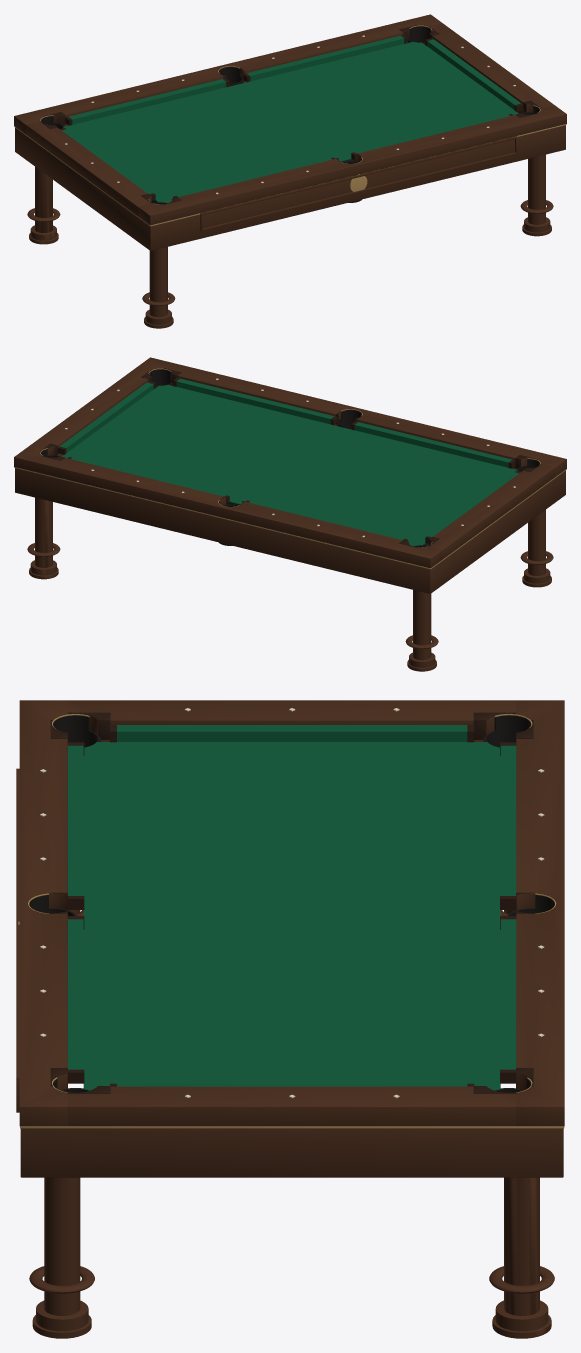
The model's file is table_a.glb.
The picture shows the model from 3 angles, top to bottom: view 1: azimuth 30°, elevation 25°; view 2: azimuth 150°, elevation 25°; view 3: azimuth 270°, elevation 25°; orthographic projection. The views are drawn at different scales.
Parts seen in each view (by area): view 1: SM_Cloth, SM_Rails, SM_Apron, SM_Cushions, SM_Legs, SM_Moldings, SM_PocketWells, SM_PocketJaws, SM_Facings, SM_ApronReveal; view 2: SM_Cloth, SM_Rails, SM_Apron, SM_Cushions, SM_Legs, SM_PocketWells, SM_ApronReveal, SM_PocketJaws, SM_Facings; view 3: SM_Cloth, SM_Rails, SM_Apron, SM_Cushions, SM_Legs, SM_PocketWells, SM_PocketJaws, SM_ApronReveal, SM_Facings, SM_Moldings.
Boxes of the visible parts, x1,y1,x2,y2 form: SM_Cloth: [63, 41, 518, 203]; SM_Rails: [14, 14, 566, 225]; SM_Apron: [15, 41, 565, 250]; SM_Cushions: [62, 35, 521, 196]; SM_Legs: [27, 154, 553, 328]; SM_Moldings: [200, 136, 517, 231]; SM_PocketWells: [41, 26, 539, 204]; SM_PocketJaws: [40, 25, 541, 204]; SM_Facings: [60, 35, 523, 200]; SM_ApronReveal: [14, 124, 566, 226]; SM_Cloth: [62, 384, 517, 546]; SM_Rails: [14, 357, 566, 568]; SM_Apron: [15, 384, 565, 593]; SM_Cushions: [59, 378, 518, 539]; SM_Legs: [27, 497, 553, 671]; SM_PocketWells: [41, 369, 539, 547]; SM_ApronReveal: [14, 467, 566, 569]; SM_PocketJaws: [39, 368, 540, 547]; SM_Facings: [57, 378, 520, 543]; SM_Cloth: [83, 742, 500, 1090]; SM_Rails: [19, 700, 564, 1126]; SM_Apron: [20, 740, 563, 1177]; SM_Cushions: [67, 725, 516, 1086]; SM_Legs: [29, 910, 554, 1338]; SM_PocketWells: [29, 715, 554, 1092]; SM_PocketJaws: [50, 712, 533, 1093]; SM_ApronReveal: [20, 1126, 564, 1128]; SM_Facings: [67, 724, 516, 1086]; SM_Moldings: [16, 768, 19, 1112].
Bounding box in the file's own units: 2.93 × 0.803 × 1.67.
